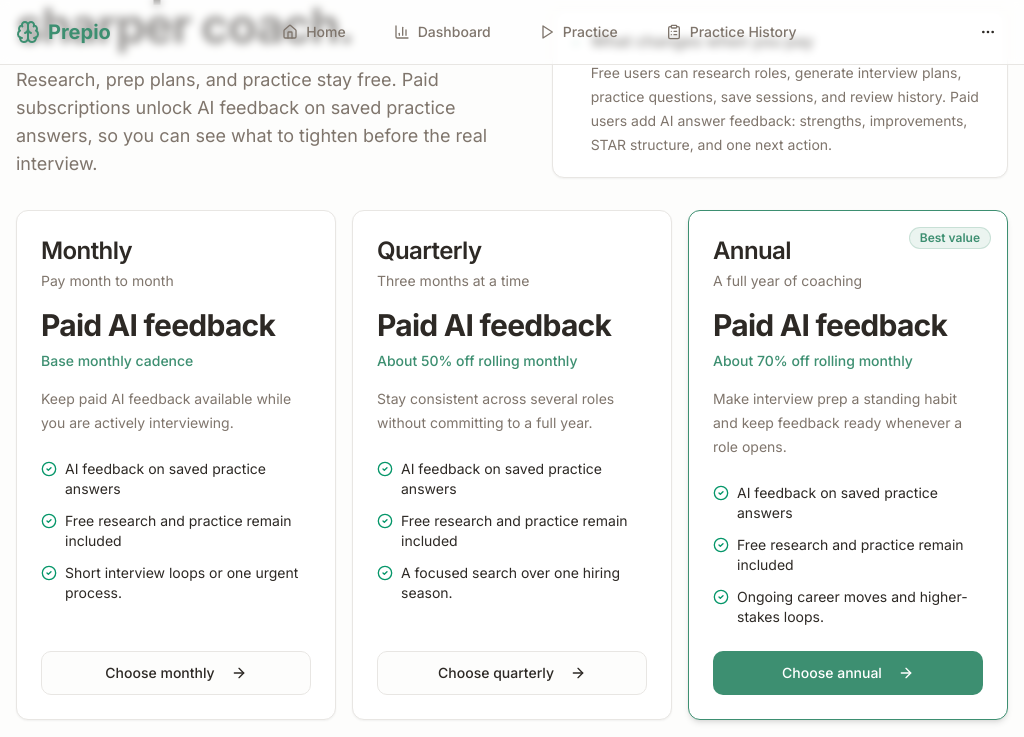
Test: Pricing page › surfaces pending Checkout conflicts without blaming the user
This screenshot has width=1024, height=737.
(page scrolled)
Click the button "Choose annual" at (848, 673), box [713,651,983,695]
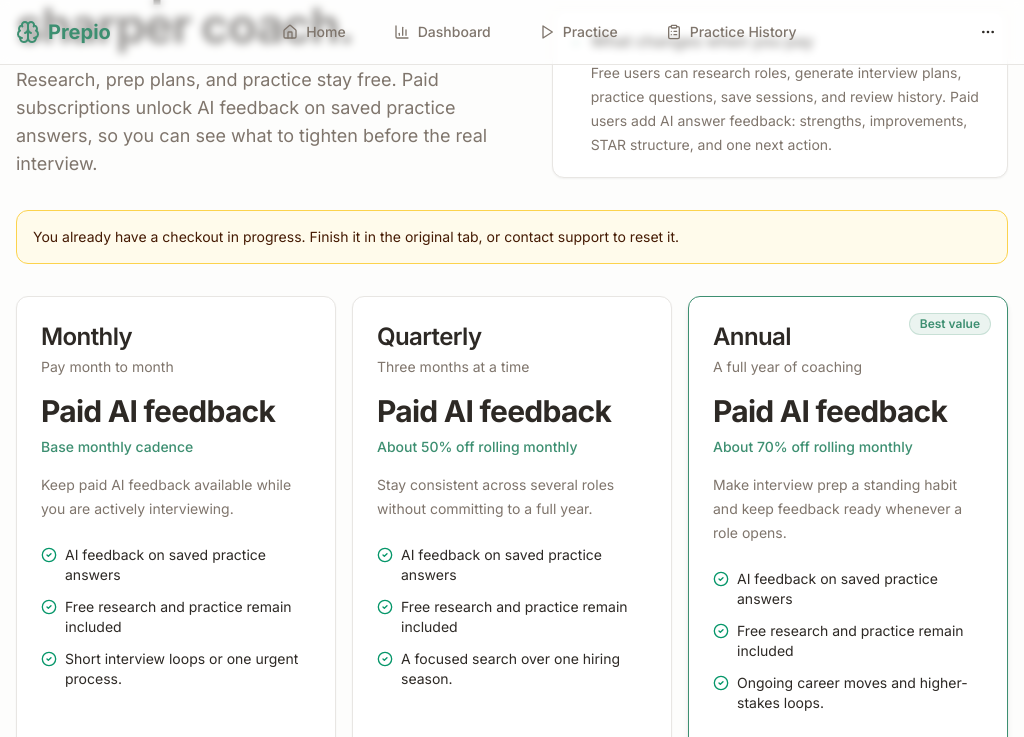
Now the text "You already have a checkout in progress" is shown, box [33,228,679,245]
